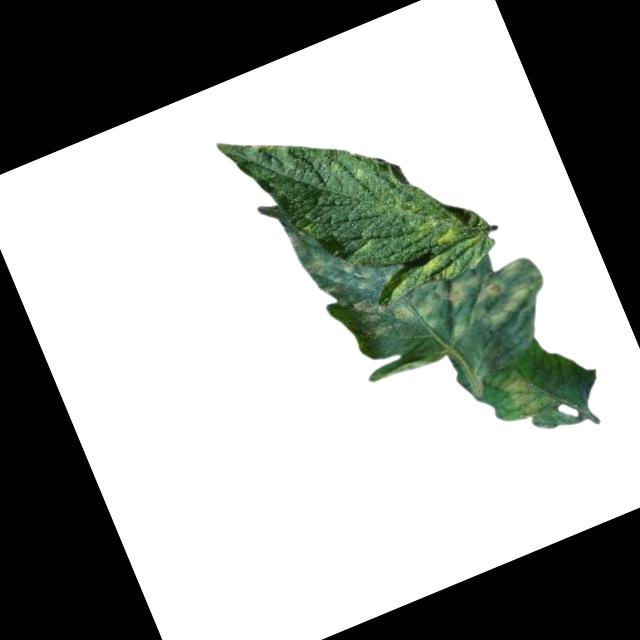Leaf_Mold: (349, 232, 554, 372), (390, 172, 496, 278), (496, 359, 558, 422)
